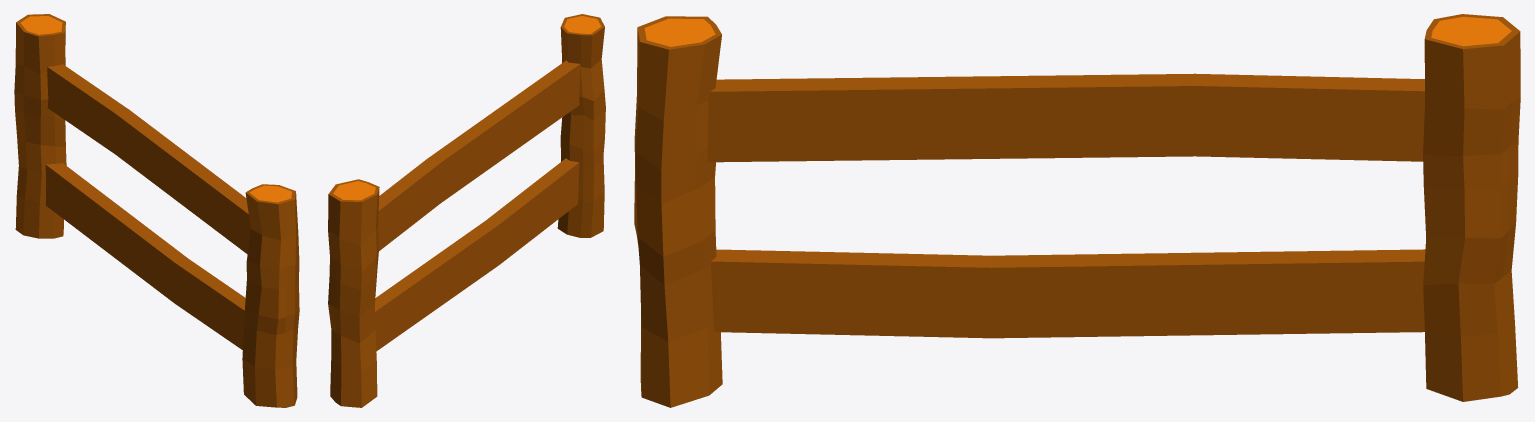
File: Fence_Tree.fbx
The picture shows the model from 3 angles, left to right: view 1: azimuth 30°, elevation 25°; view 2: azimuth 150°, elevation 25°; view 3: azimuth 270°, elevation 25°; orthographic projection. The views are drawn at different scales.
Visible parts, largest first — view 1: Fence_Tree; view 2: Fence_Tree; view 3: Fence_Tree.
Boxes of the visible parts, <box> form: Fence_Tree: <box>14,14,299,407</box>; Fence_Tree: <box>328,14,605,407</box>; Fence_Tree: <box>634,14,1520,407</box>.
Bounding box in the file's own units: 0.7314 × 7.47 × 3.32.
